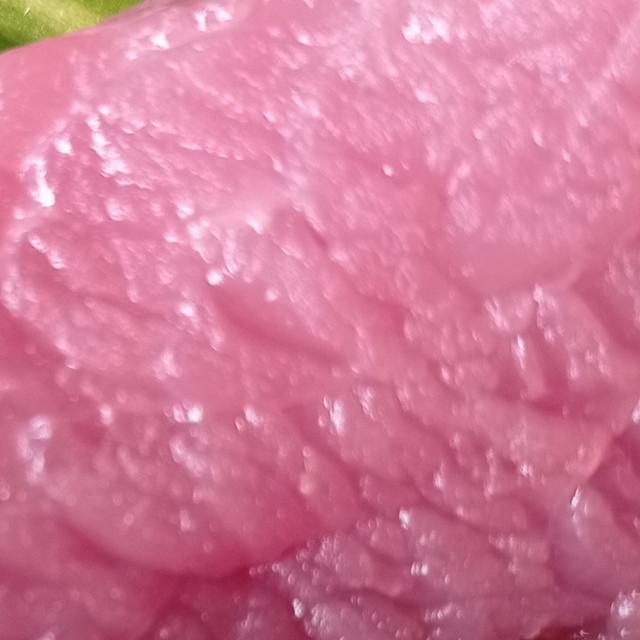Pork: (3, 16, 596, 569)
